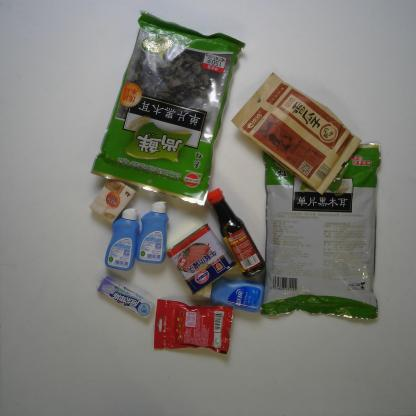Candy: (152, 297, 236, 356), (94, 274, 156, 320)
Canned Food: (164, 221, 239, 298)
Dried Food: (86, 6, 252, 212), (256, 138, 385, 324), (228, 70, 364, 199)
Personal Hygiene: (191, 274, 266, 314), (134, 198, 170, 266), (103, 206, 140, 272)
Seasoner: (203, 185, 270, 280)
Tissue: (88, 175, 138, 226)
